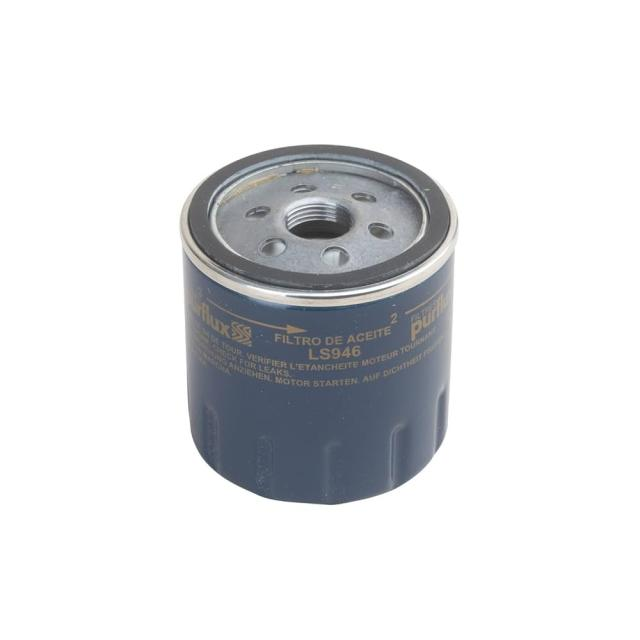oil_filter: (176, 135, 468, 518)
